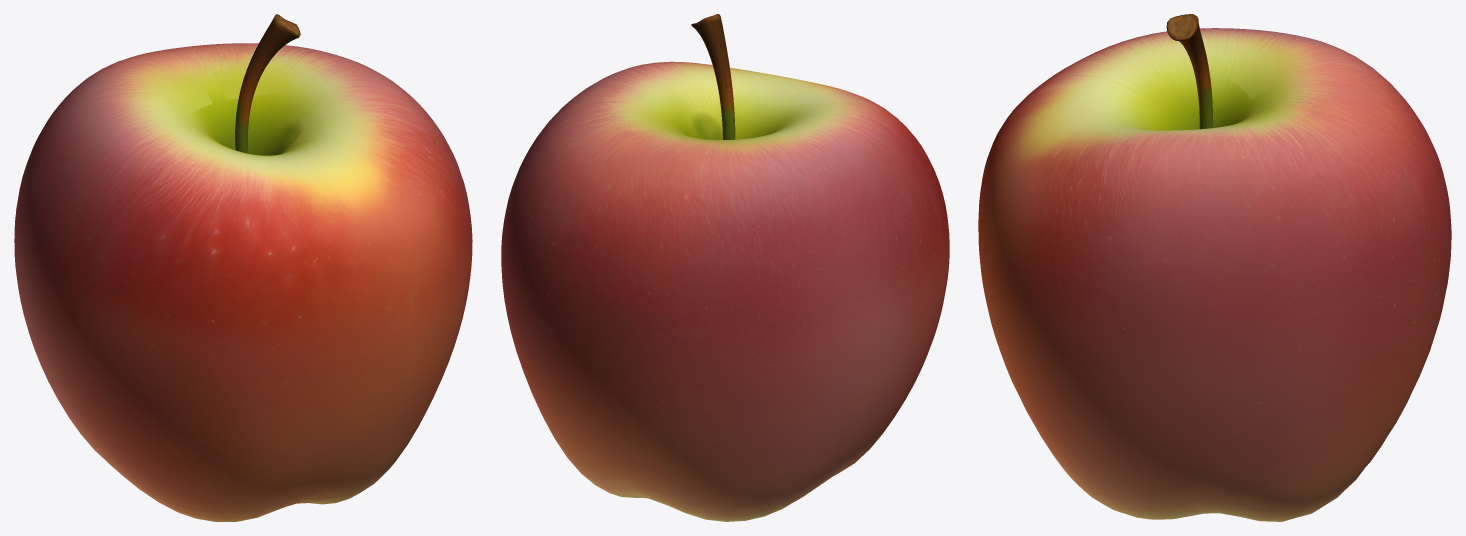
The model's file is apple.fbx.
3 views of the same model, side by side, from view 1: azimuth 30°, elevation 25°; view 2: azimuth 150°, elevation 25°; view 3: azimuth 270°, elevation 25° (orthographic). The views are drawn at different scales.
Visible parts, largest first — view 1: 苹果; view 2: 苹果; view 3: 苹果.
Part boxes in pixels (x1,y1,x2,y2): 苹果: (14, 14, 472, 521); 苹果: (501, 14, 949, 521); 苹果: (978, 14, 1451, 521).
Bounding box in the file's own units: 97.13 × 110 × 98.07.
Materials: 1 (1 with a texture image).
